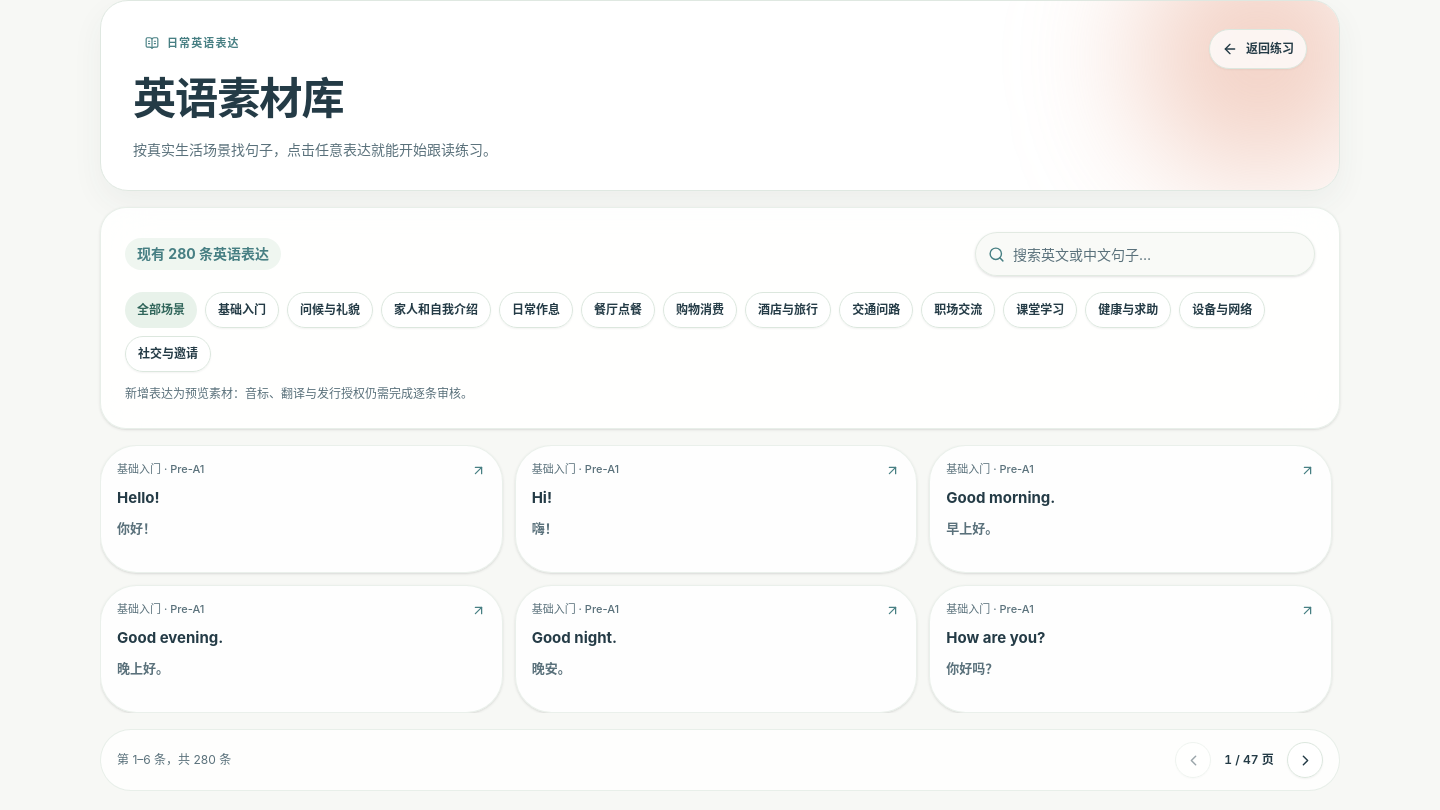
it: Voxnelo searchable course catalog › shows the expanded catalog and paginates at six expressions per page
Expected: the text with test id "catalog-count" shows "280", [137,245,269,262]
Expected: the number of buttons with class "catalogItem" is 6, [100,445,503,573]; [515,445,917,573]; [929,445,1332,573]; [100,585,503,713]; [515,585,917,713]; [929,585,1332,713]
Click the button named "下一页" at (1305, 760), box [1287,742,1323,778]
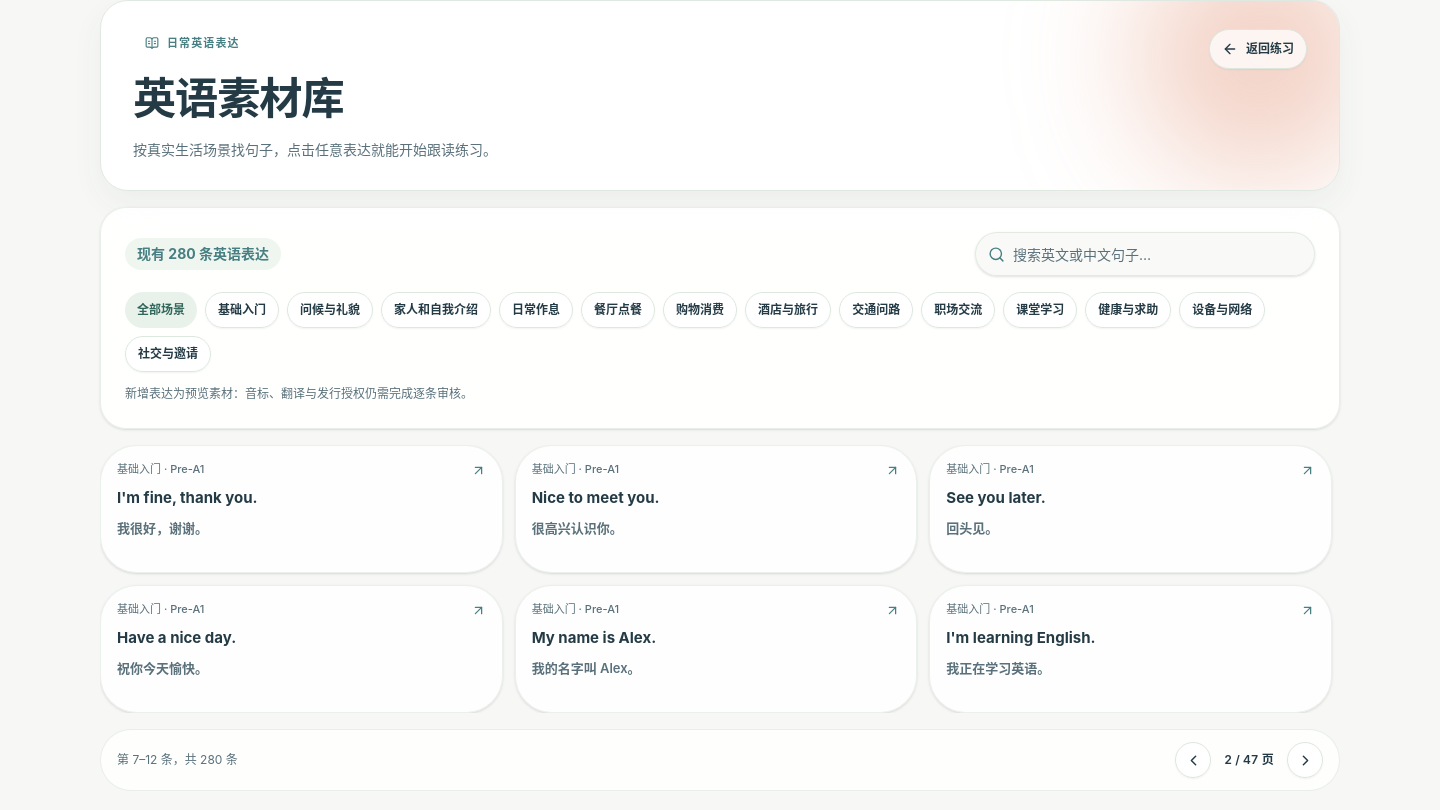
Expected: the number of buttons with class "catalogItem" is 6, [100,445,503,573]; [515,445,917,573]; [929,445,1332,573]; [100,585,503,713]; [515,585,917,713]; [929,585,1332,713]
Now the navigation bar named "句子列表分页" shows "2 / 47", box [1224,752,1274,767]
